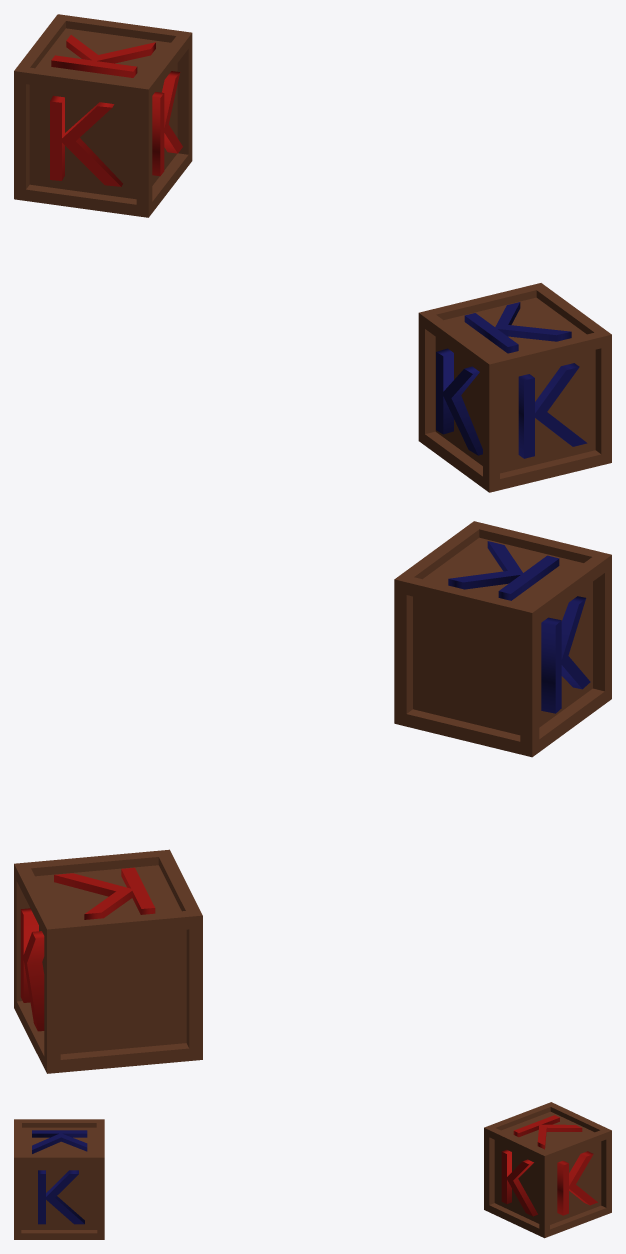
File: cubes.obj
3 views of the same model, one above another, from view 1: azimuth 30°, elevation 25°; view 2: azimuth 150°, elevation 25°; view 3: azimuth 270°, elevation 25° (orthographic). The views are drawn at different scales.
Parts seen in each view (by area): view 1: Cube.007_Cube.009, Cube.008_Cube.003, Text.003_K.003, Text.005_K.005, Text.002_K.002, Text.007_K.007, Text_K, Text.004_K.004; view 2: Cube.007_Cube.009, Cube.008_Cube.003, Text.002_K.002, Text_K, Text.006_K.006, Text.007_K.007; view 3: Cube.008_Cube.003, Cube.007_Cube.009, Text.006_K.006, Text.001_K.001, Text.004_K.004, Text_K, Text.007_K.007.
Part boxes in pixels (x1,y1,x2,y2): Cube.007_Cube.009: (418, 283, 611, 492); Cube.008_Cube.003: (14, 14, 192, 217); Text.003_K.003: (518, 363, 587, 458); Text.005_K.005: (50, 95, 122, 186); Text.002_K.002: (436, 348, 482, 455); Text.007_K.007: (51, 35, 155, 77); Text_K: (464, 302, 571, 353); Text.004_K.004: (152, 71, 182, 176); Cube.007_Cube.009: (394, 521, 611, 757); Cube.008_Cube.003: (14, 849, 202, 1073); Text.002_K.002: (541, 596, 590, 713); Text_K: (448, 541, 559, 600); Text.006_K.006: (20, 908, 44, 1031); Text.007_K.007: (54, 867, 155, 919); Cube.008_Cube.003: (484, 1102, 611, 1238); Cube.007_Cube.009: (14, 1119, 104, 1239); Text.006_K.006: (557, 1151, 597, 1215); Text.001_K.001: (38, 1170, 84, 1224); Text.004_K.004: (501, 1149, 537, 1216); Text_K: (32, 1130, 87, 1153); Text.007_K.007: (513, 1115, 582, 1149).
Bounding box in the file's own units: 2.94 × 2 × 13.19.
